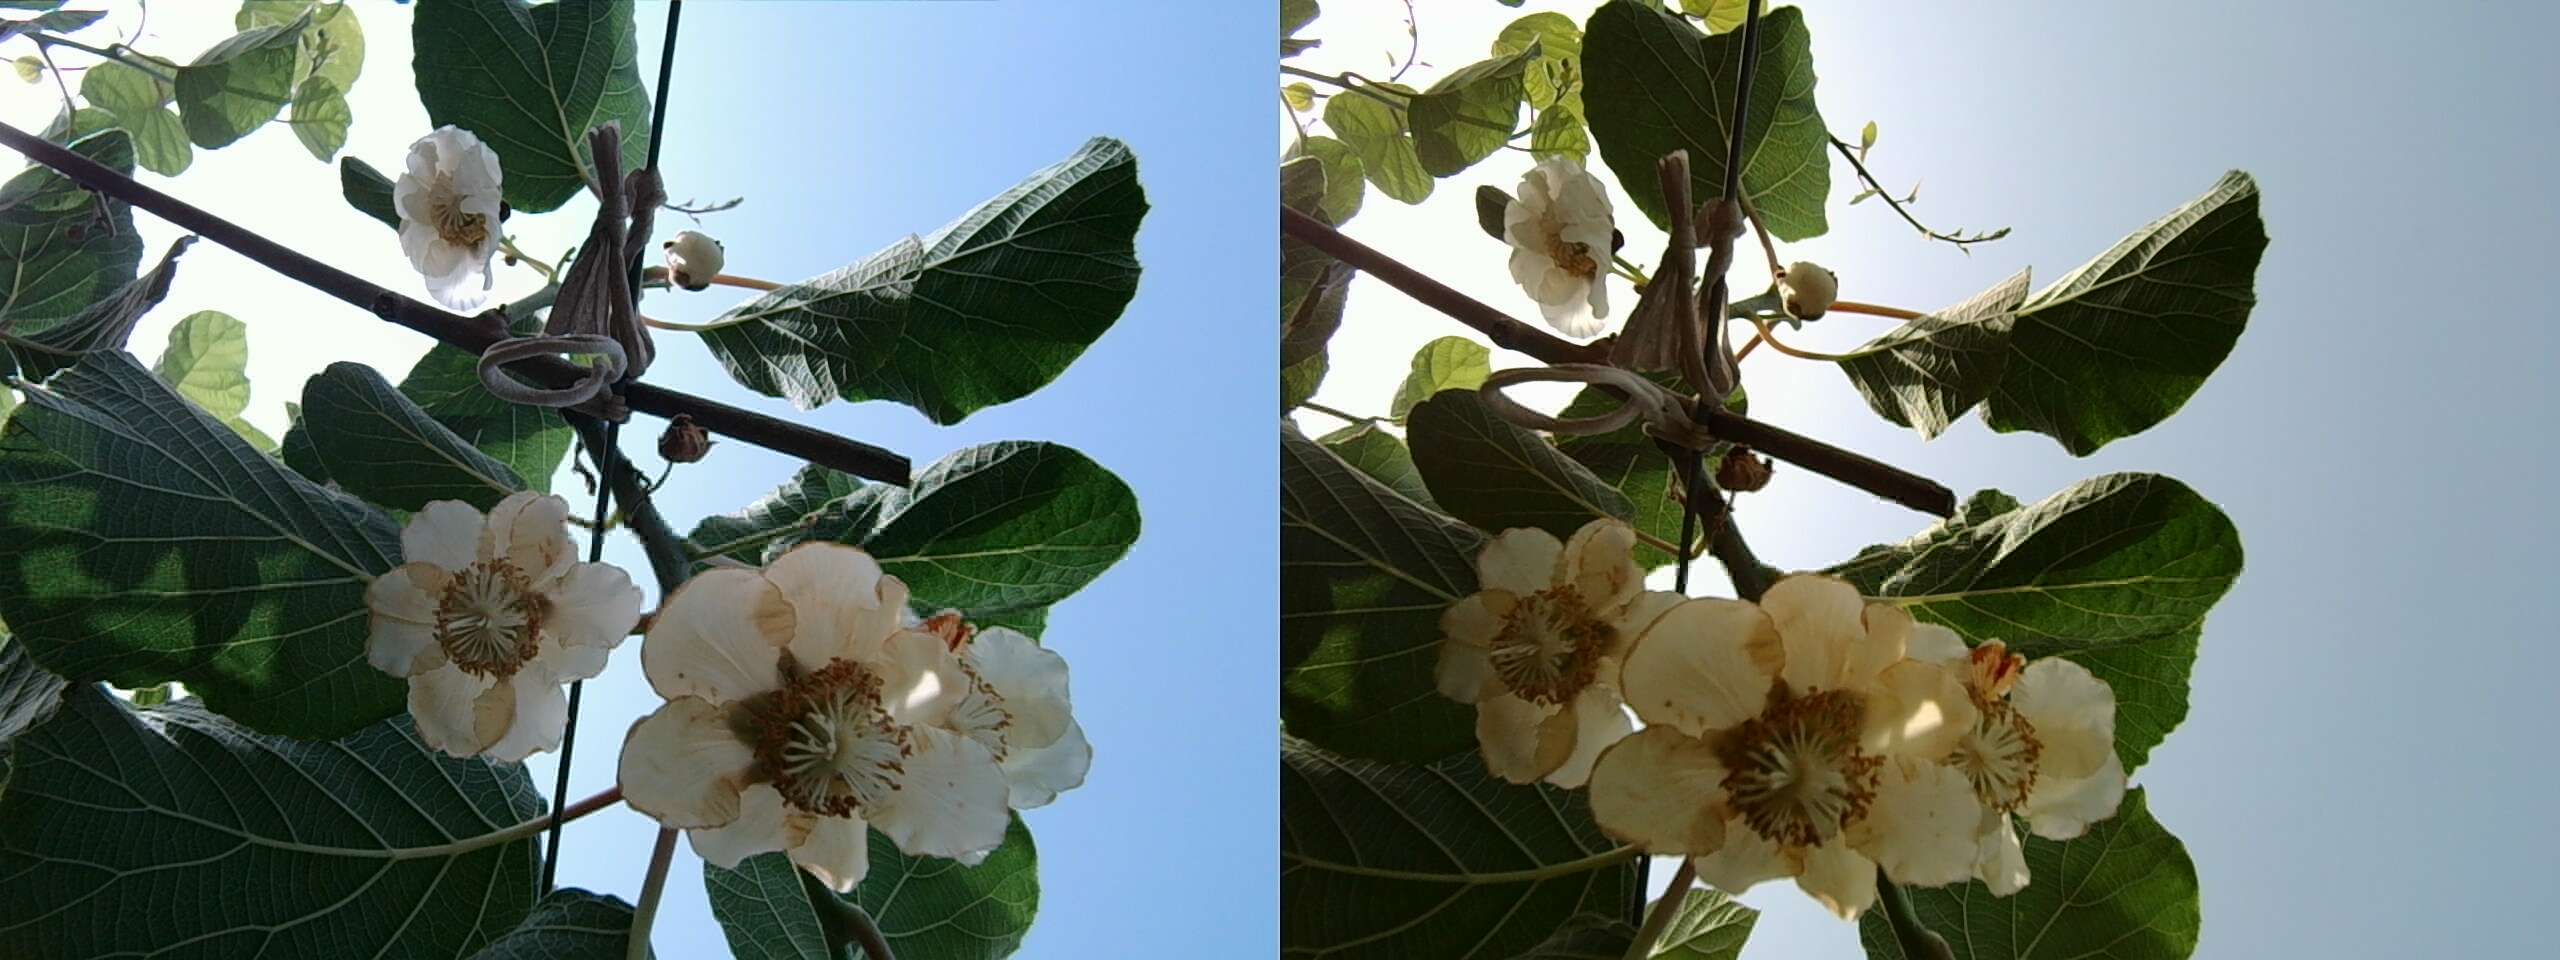flower: (642, 563, 1011, 882), (1620, 624, 1987, 901), (358, 478, 630, 758), (1427, 513, 1657, 785), (1912, 642, 2114, 831), (344, 127, 518, 300), (918, 622, 1073, 803), (1473, 150, 1616, 318)
